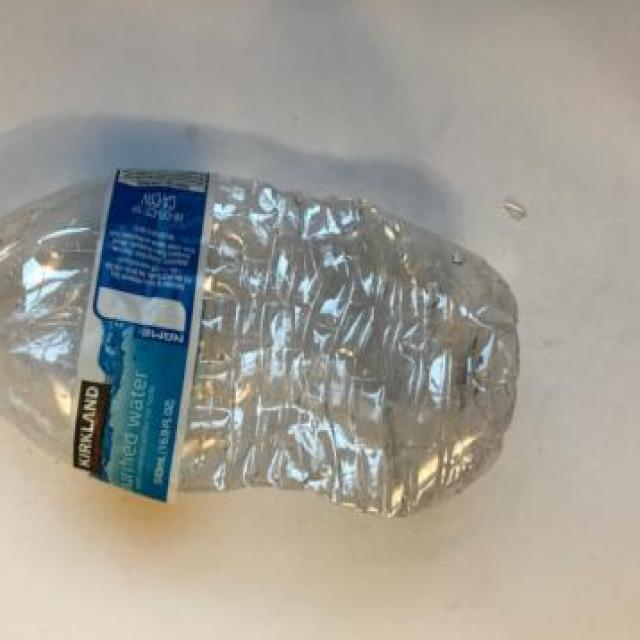organic: (0, 173, 536, 511)
